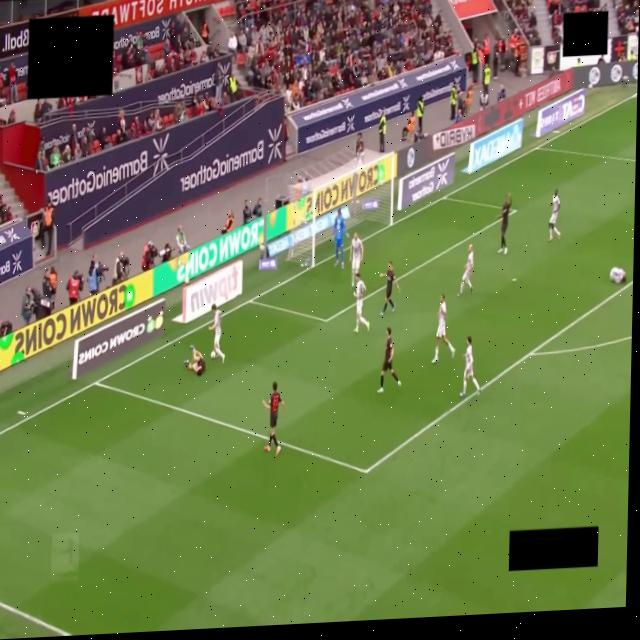player: (262, 382, 284, 456), (431, 295, 454, 363), (377, 327, 400, 393), (460, 335, 480, 398), (379, 261, 399, 315), (208, 304, 224, 362), (353, 273, 368, 332), (333, 209, 347, 268), (458, 244, 473, 295), (498, 193, 510, 254), (350, 233, 362, 287), (184, 346, 205, 376), (548, 189, 560, 241), (609, 268, 625, 284)
